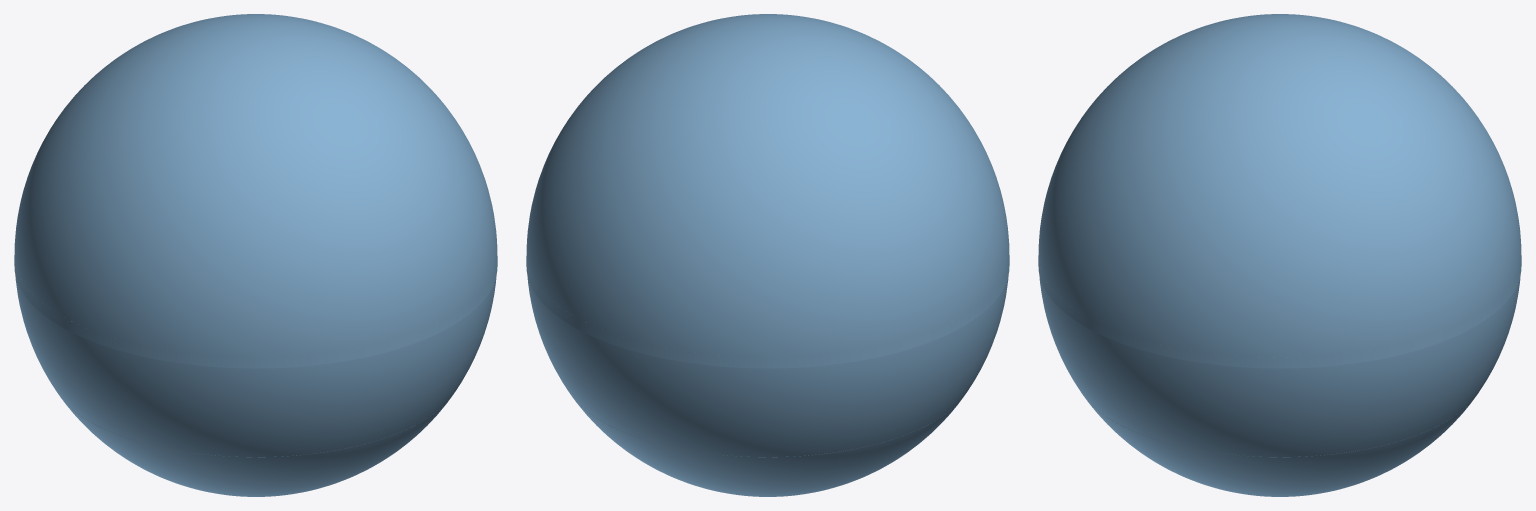
3 renders of one model, left to right at view 1: azimuth 30°, elevation 25°; view 2: azimuth 150°, elevation 25°; view 3: azimuth 270°, elevation 25°, orthographic.
Parts seen in each view (by area): view 1: Invisible Tech Sphere, Floor main; view 2: Invisible Tech Sphere, Floor main; view 3: Invisible Tech Sphere, Floor main.
Boxes of the visible parts, box(x1,y1,x2,y2) form: Invisible Tech Sphere: box(14, 14, 497, 496); Floor main: box(14, 255, 497, 457); Invisible Tech Sphere: box(526, 14, 1009, 496); Floor main: box(526, 255, 1009, 457); Invisible Tech Sphere: box(1038, 14, 1521, 496); Floor main: box(1038, 256, 1521, 457).
Size of the model in its own units: 12.19 by 12.19 by 12.19.
